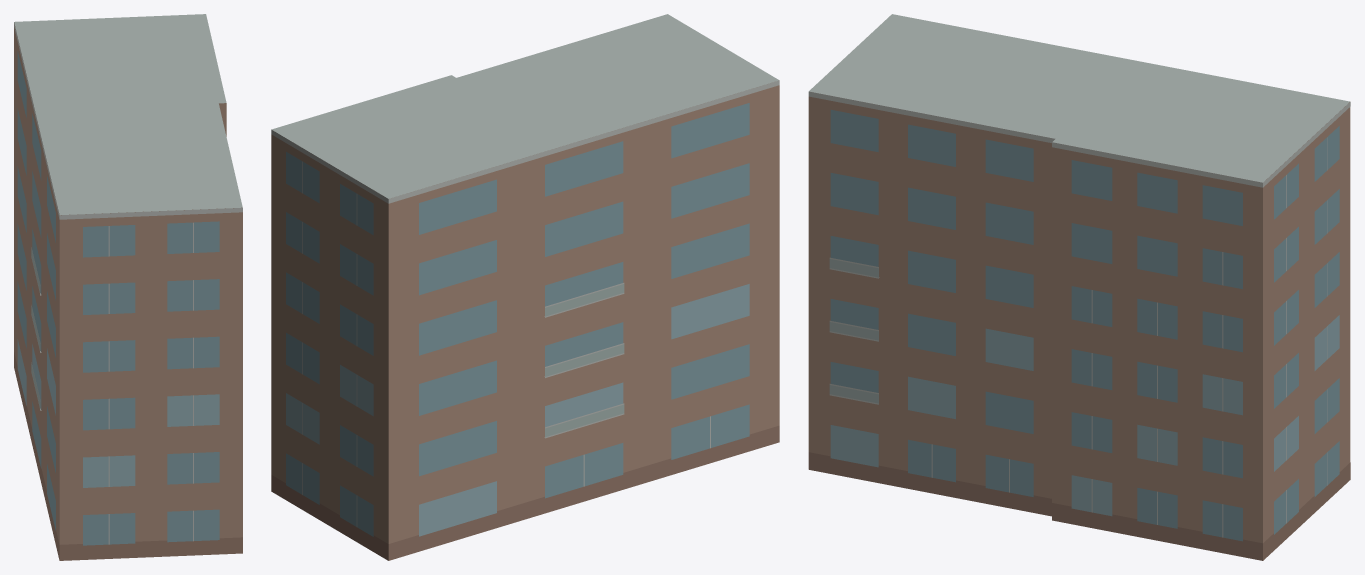
Rendered from survey-upis-33038664.glb.
The picture shows the model from 3 angles, left to right: view 1: azimuth 30°, elevation 25°; view 2: azimuth 150°, elevation 25°; view 3: azimuth 270°, elevation 25°; orthographic projection. The views are drawn at different scales.
Parts seen in each view (by area): view 1: survey-upis-33038664.tmp; view 2: survey-upis-33038664.tmp; view 3: survey-upis-33038664.tmp.
Boxes of the visible parts, box(x1,y1,x2,y2) form: survey-upis-33038664.tmp: box(14, 14, 242, 560); survey-upis-33038664.tmp: box(271, 14, 779, 560); survey-upis-33038664.tmp: box(808, 14, 1350, 560).
Bounding box in the file's own units: 17.51 × 18.3 × 23.77.
